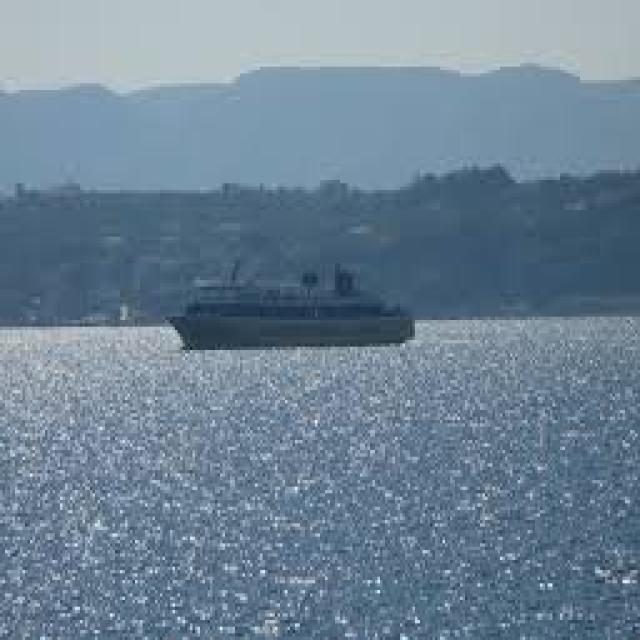passenger ship: (158, 252, 427, 362)
